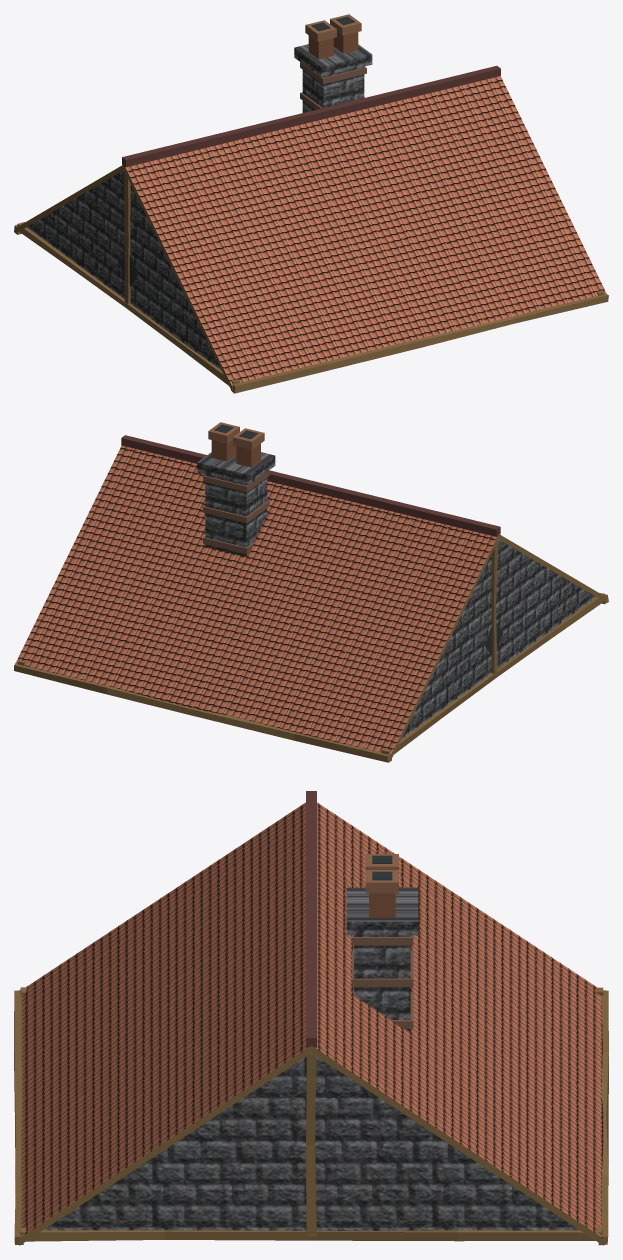
Rendered from town_Roof_06_gable.glb.
3 views of the same model, one above another, from view 1: azimuth 30°, elevation 25°; view 2: azimuth 150°, elevation 25°; view 3: azimuth 270°, elevation 25° (orthographic). The views are drawn at different scales.
Visible parts, largest first — view 1: town_Roof_06_gable.005; view 2: town_Roof_06_gable.005; view 3: town_Roof_06_gable.005.
Part boxes in pixels (bbox=[...]): town_Roof_06_gable.005: bbox=[14, 14, 608, 393]; town_Roof_06_gable.005: bbox=[14, 422, 608, 762]; town_Roof_06_gable.005: bbox=[14, 791, 608, 1245].
Bounding box in the file's own units: 7 × 3.8 × 7.13.
Materials: 3 (2 with a texture image).
